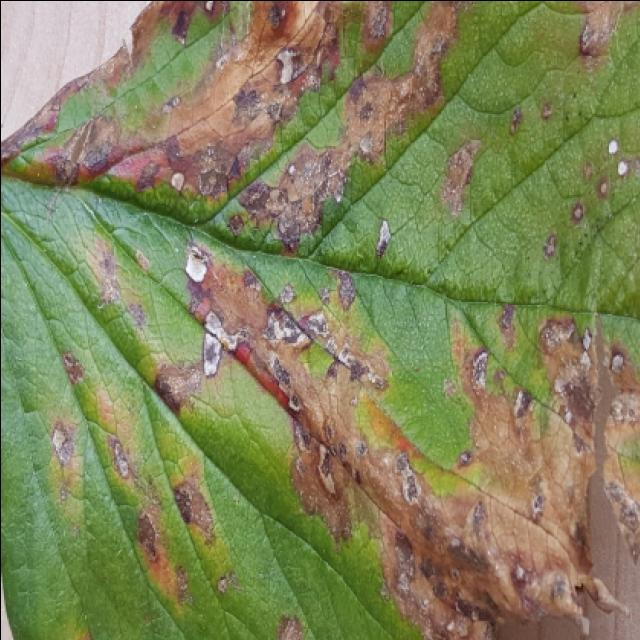Angular Leafspot: (0, 2, 638, 640)
